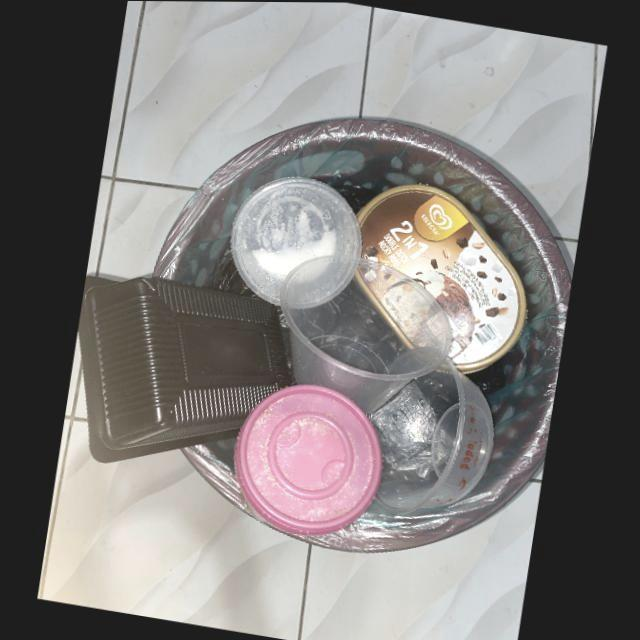plastic_container: (77, 276, 295, 464), (353, 184, 527, 375), (279, 255, 451, 415), (232, 388, 383, 542), (367, 356, 493, 517), (229, 178, 362, 313)
